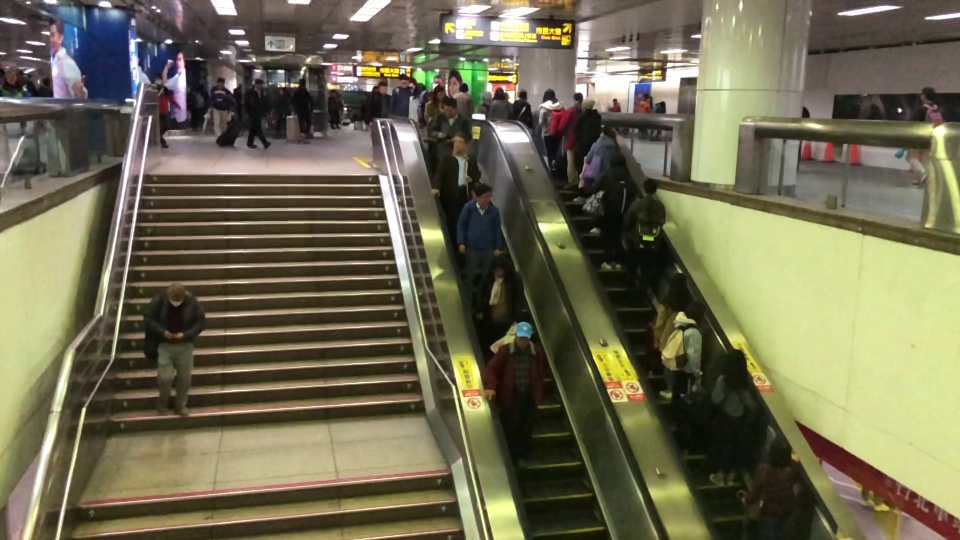person_head: (766, 434, 791, 465), (721, 349, 747, 375), (471, 181, 494, 207), (166, 283, 185, 307), (668, 272, 686, 291), (441, 97, 457, 117), (493, 256, 508, 277), (641, 177, 657, 195), (919, 85, 935, 103), (514, 327, 529, 346), (609, 151, 626, 167), (688, 302, 705, 318), (452, 135, 465, 153), (541, 88, 555, 101), (5, 69, 18, 82), (433, 85, 446, 98), (414, 83, 426, 97), (580, 97, 594, 109), (598, 126, 614, 136), (398, 73, 409, 87), (253, 77, 264, 90), (377, 82, 388, 95), (494, 86, 505, 98), (433, 75, 444, 86), (458, 81, 469, 92), (573, 91, 583, 103), (517, 88, 526, 100), (153, 74, 163, 84), (216, 77, 225, 86), (41, 77, 49, 87), (297, 78, 305, 87), (483, 93, 490, 102), (659, 100, 666, 107), (643, 93, 648, 101), (612, 97, 617, 104)
person_vbox: (481, 327, 545, 472), (143, 283, 205, 417), (705, 350, 754, 488), (742, 434, 800, 540), (620, 177, 666, 307), (456, 181, 503, 303), (586, 151, 633, 272), (661, 302, 706, 427), (652, 272, 692, 400), (904, 85, 947, 188), (429, 134, 481, 215), (476, 256, 523, 337), (583, 125, 617, 236), (572, 97, 602, 202), (558, 91, 585, 187), (430, 98, 470, 161), (537, 88, 565, 168), (243, 77, 271, 151), (152, 73, 179, 147), (291, 77, 314, 139), (210, 77, 232, 136), (416, 74, 443, 120), (365, 82, 389, 125), (391, 72, 411, 117), (424, 86, 447, 122), (0, 69, 29, 97), (452, 81, 474, 117), (489, 86, 513, 119), (636, 93, 651, 138), (408, 83, 426, 120), (513, 88, 532, 123), (651, 100, 666, 139), (36, 76, 52, 97), (477, 92, 491, 114), (607, 97, 621, 112)
